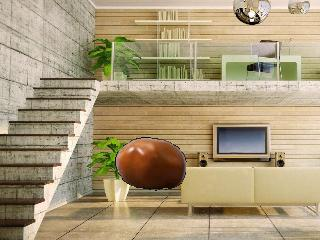potato: (113, 134, 190, 196)
